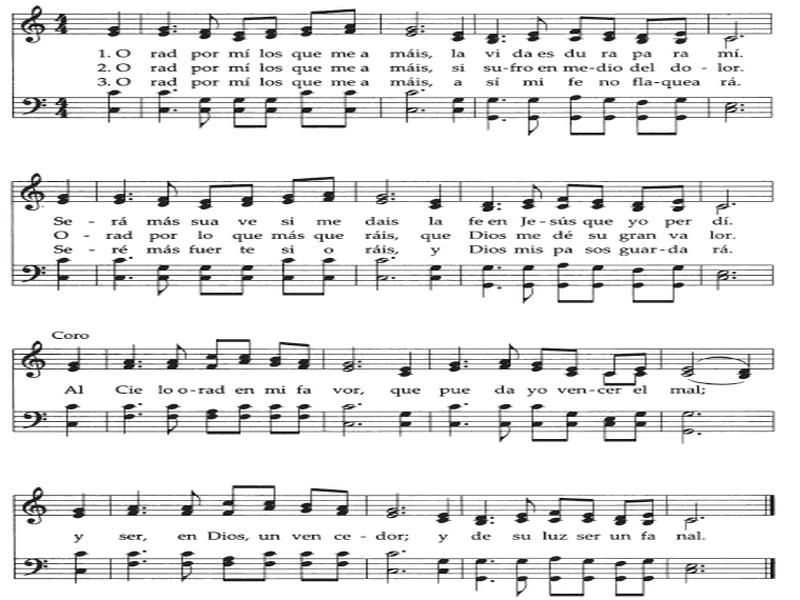B: (337, 402, 357, 444), (365, 173, 388, 204), (401, 91, 419, 128), (383, 549, 399, 590), (677, 349, 700, 376), (680, 406, 694, 449), (398, 9, 419, 37), (383, 491, 401, 522), (339, 344, 356, 372), (679, 500, 698, 524), (721, 100, 737, 127), (682, 561, 698, 588), (373, 259, 386, 289), (722, 18, 737, 40), (713, 266, 727, 288), (340, 417, 354, 438), (717, 186, 730, 208), (678, 427, 693, 446), (370, 274, 387, 290), (342, 396, 354, 418), (720, 34, 738, 48), (680, 407, 693, 426), (386, 565, 397, 587), (383, 548, 397, 565), (375, 257, 387, 273), (404, 89, 417, 103), (407, 105, 416, 124), (714, 202, 727, 214), (686, 516, 697, 528)
C: (586, 92, 617, 142), (513, 262, 546, 306), (577, 261, 608, 306), (656, 266, 689, 307), (328, 90, 359, 133), (557, 409, 585, 454), (572, 554, 601, 597), (286, 403, 317, 441), (169, 547, 199, 586), (197, 333, 225, 374), (308, 257, 334, 301), (287, 91, 313, 134), (211, 484, 242, 520), (563, 94, 585, 144), (663, 96, 689, 138), (153, 175, 184, 210), (156, 339, 187, 374), (626, 406, 653, 446), (259, 400, 284, 443), (539, 553, 562, 598), (551, 261, 575, 304), (493, 401, 516, 445), (169, 485, 202, 515), (276, 256, 297, 303), (326, 485, 353, 521), (145, 263, 174, 296), (624, 263, 646, 306), (521, 96, 545, 135), (610, 495, 635, 531), (253, 483, 282, 514), (253, 94, 277, 131), (255, 544, 277, 584), (277, 172, 301, 208), (599, 348, 626, 380), (297, 482, 321, 518), (196, 94, 217, 135), (609, 559, 630, 600), (637, 555, 657, 598), (527, 403, 546, 448), (224, 96, 247, 133), (525, 344, 551, 376), (235, 263, 260, 296), (510, 494, 537, 524), (526, 12, 552, 43), (295, 548, 317, 584), (297, 8, 325, 36), (197, 11, 220, 45), (327, 551, 350, 585), (547, 494, 572, 525), (197, 182, 221, 214), (237, 174, 257, 212), (162, 403, 185, 436), (631, 99, 652, 135), (594, 414, 618, 445), (497, 342, 520, 374), (556, 176, 577, 211), (512, 553, 529, 596), (519, 182, 547, 208), (588, 175, 607, 213), (233, 338, 257, 368), (217, 553, 237, 589), (196, 264, 216, 299), (629, 181, 651, 212), (197, 405, 218, 437), (316, 175, 337, 206), (667, 181, 687, 212), (569, 13, 589, 43), (563, 349, 583, 379), (231, 404, 248, 439), (231, 16, 252, 44), (580, 494, 601, 522), (297, 339, 314, 373), (671, 14, 690, 44), (636, 13, 654, 44), (639, 491, 655, 525), (600, 13, 617, 41), (270, 340, 287, 368), (342, 6, 358, 34), (261, 11, 277, 38), (625, 370, 647, 386), (636, 352, 648, 373), (602, 370, 618, 384)
CF: (20, 260, 47, 294), (17, 93, 50, 120), (21, 405, 48, 438), (25, 552, 48, 583)
CS: (19, 164, 47, 216), (23, 480, 49, 532), (20, 3, 47, 50), (19, 337, 47, 381)
N: (68, 549, 95, 585), (424, 264, 451, 294), (424, 179, 448, 211), (467, 557, 487, 593), (469, 493, 487, 532), (62, 347, 87, 374), (447, 15, 470, 44), (107, 255, 125, 292), (67, 488, 87, 521), (121, 550, 141, 583), (445, 404, 462, 442), (51, 180, 74, 208), (107, 11, 128, 41), (397, 348, 418, 378), (122, 486, 140, 521), (62, 404, 81, 437), (737, 350, 758, 379), (117, 342, 136, 374), (444, 344, 464, 374), (477, 180, 495, 213), (154, 88, 171, 122), (119, 399, 134, 437), (433, 555, 449, 590), (436, 494, 453, 526), (113, 174, 129, 206), (484, 16, 501, 44), (102, 90, 117, 121), (156, 12, 173, 39), (397, 409, 414, 436), (480, 263, 493, 298), (484, 97, 497, 131), (55, 257, 67, 292), (449, 95, 463, 122)
P: (728, 267, 742, 285), (387, 270, 398, 283), (397, 564, 410, 575), (697, 512, 708, 524), (698, 564, 709, 576), (354, 360, 363, 374), (136, 408, 147, 419), (140, 557, 152, 567), (489, 552, 497, 566), (169, 105, 181, 114), (400, 504, 409, 516), (496, 264, 508, 273), (420, 24, 428, 37), (692, 429, 705, 437), (141, 504, 148, 518), (400, 548, 407, 561), (134, 398, 144, 407), (497, 283, 506, 293), (693, 407, 703, 416), (172, 24, 180, 35), (496, 203, 504, 214), (500, 95, 507, 107), (487, 578, 501, 584), (356, 419, 364, 429), (391, 192, 397, 204), (126, 196, 136, 203), (126, 275, 133, 284), (499, 117, 509, 122), (503, 32, 507, 43)
